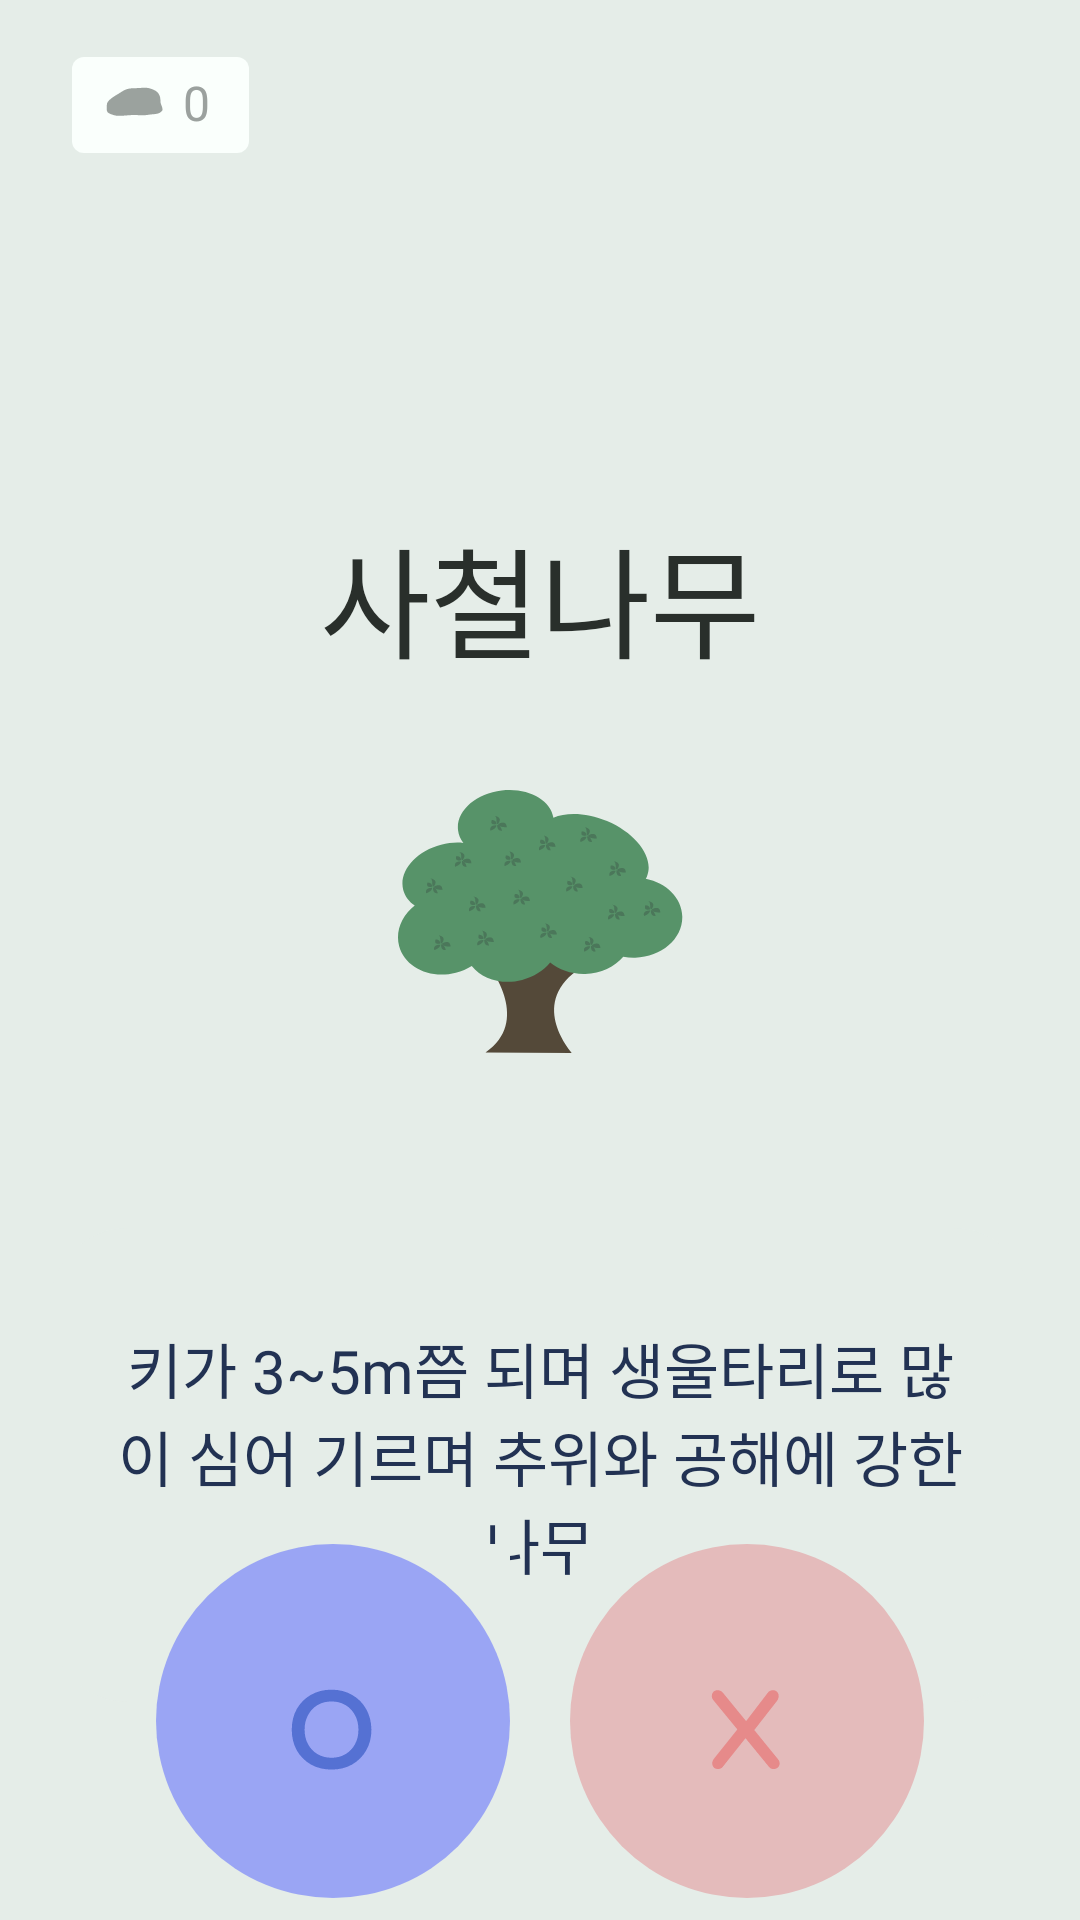

Screen size 1080px×1920px. Icon name, then its box in pixels as {"left": x1, "top": y1, "right": x2, "bottom": y2}:
plant: {"left": 398, "top": 790, "right": 683, "bottom": 1053}
quiz no: {"left": 570, "top": 1544, "right": 924, "bottom": 1898}
quiz yes: {"left": 156, "top": 1544, "right": 510, "bottom": 1898}
